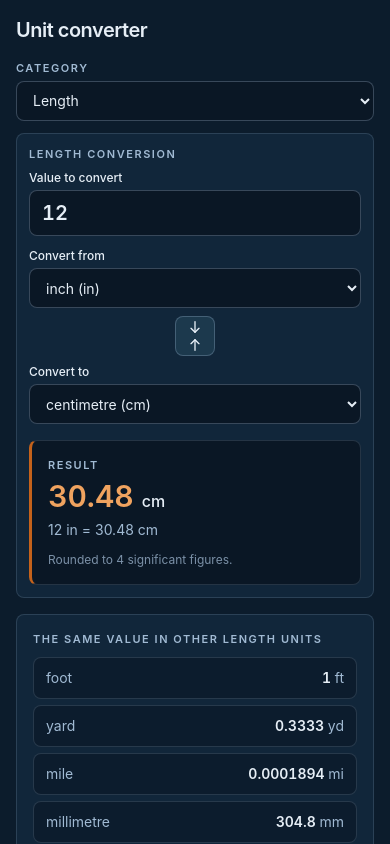
Test: Converter screen — category picker › AC-005: switching category to volume repopulates the unit pickers with volume units only and a valid default pair, with no length unit left selectable
The image size is (390, 844).
Expected: the dropdown labelled "Convert from" shows "inch (in)", [29,268,361,308]
Expected: the dropdown labelled "Convert to" shows "centimetre (cm)", [29,384,361,424]
Select "Volume" in the dropdown labelled "Category" at [195, 100], box [16,80,374,120]
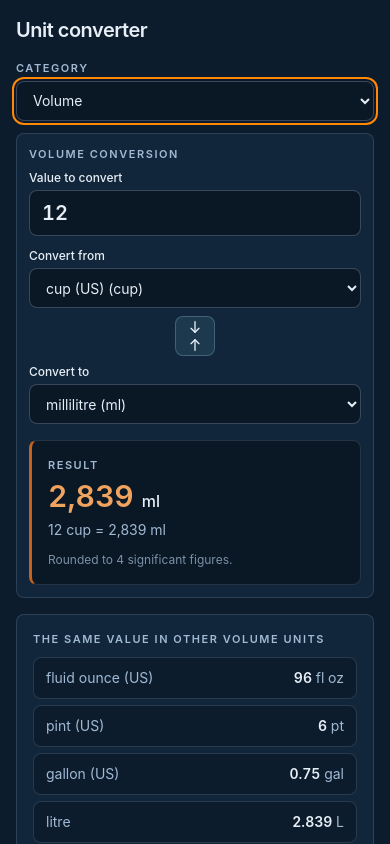
Now the dropdown labelled "Convert from" shows "cup (US) (cup)", box [29,268,361,308]
Now the dropdown labelled "Convert to" shows "millilitre (ml)", box [29,384,361,424]
